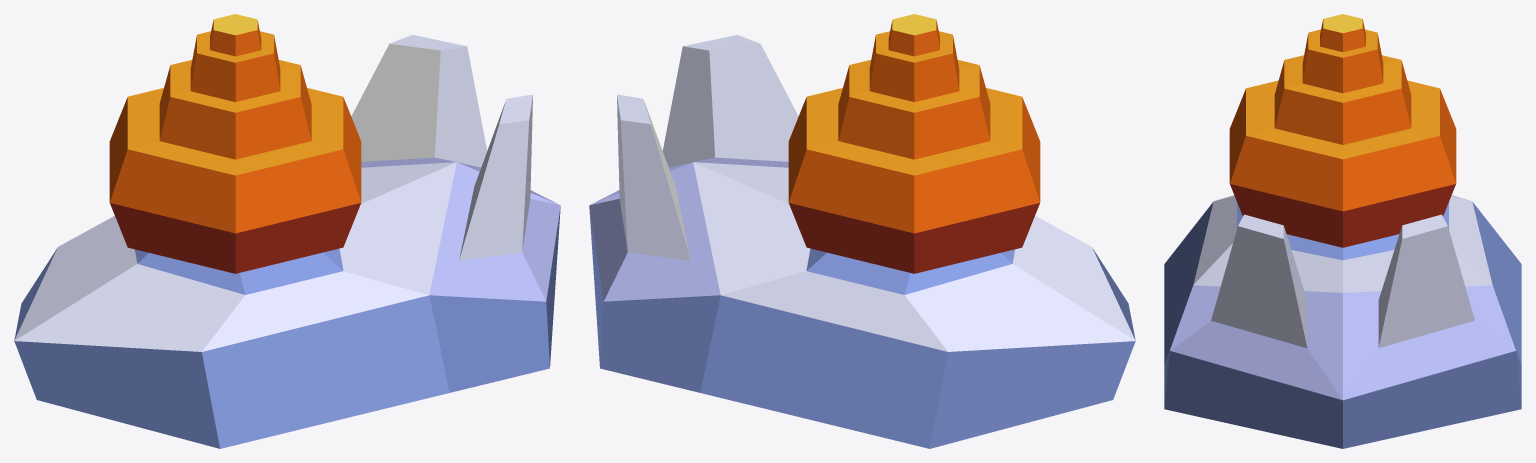
File: snail.fbx
3 renders of one model, left to right at view 1: azimuth 30°, elevation 25°; view 2: azimuth 150°, elevation 25°; view 3: azimuth 270°, elevation 25°, orthographic. The views are drawn at different scales.
Visible parts, largest first — view 1: Sphere; view 2: Sphere; view 3: Sphere.
Boxes of the visible parts, x1=… form: Sphere: x1=14, y1=14, x2=560, y2=448; Sphere: x1=589, y1=14, x2=1135, y2=448; Sphere: x1=1164, y1=14, x2=1521, y2=448.
Size of the model in its own units: 119 by 68.03 by 75.
